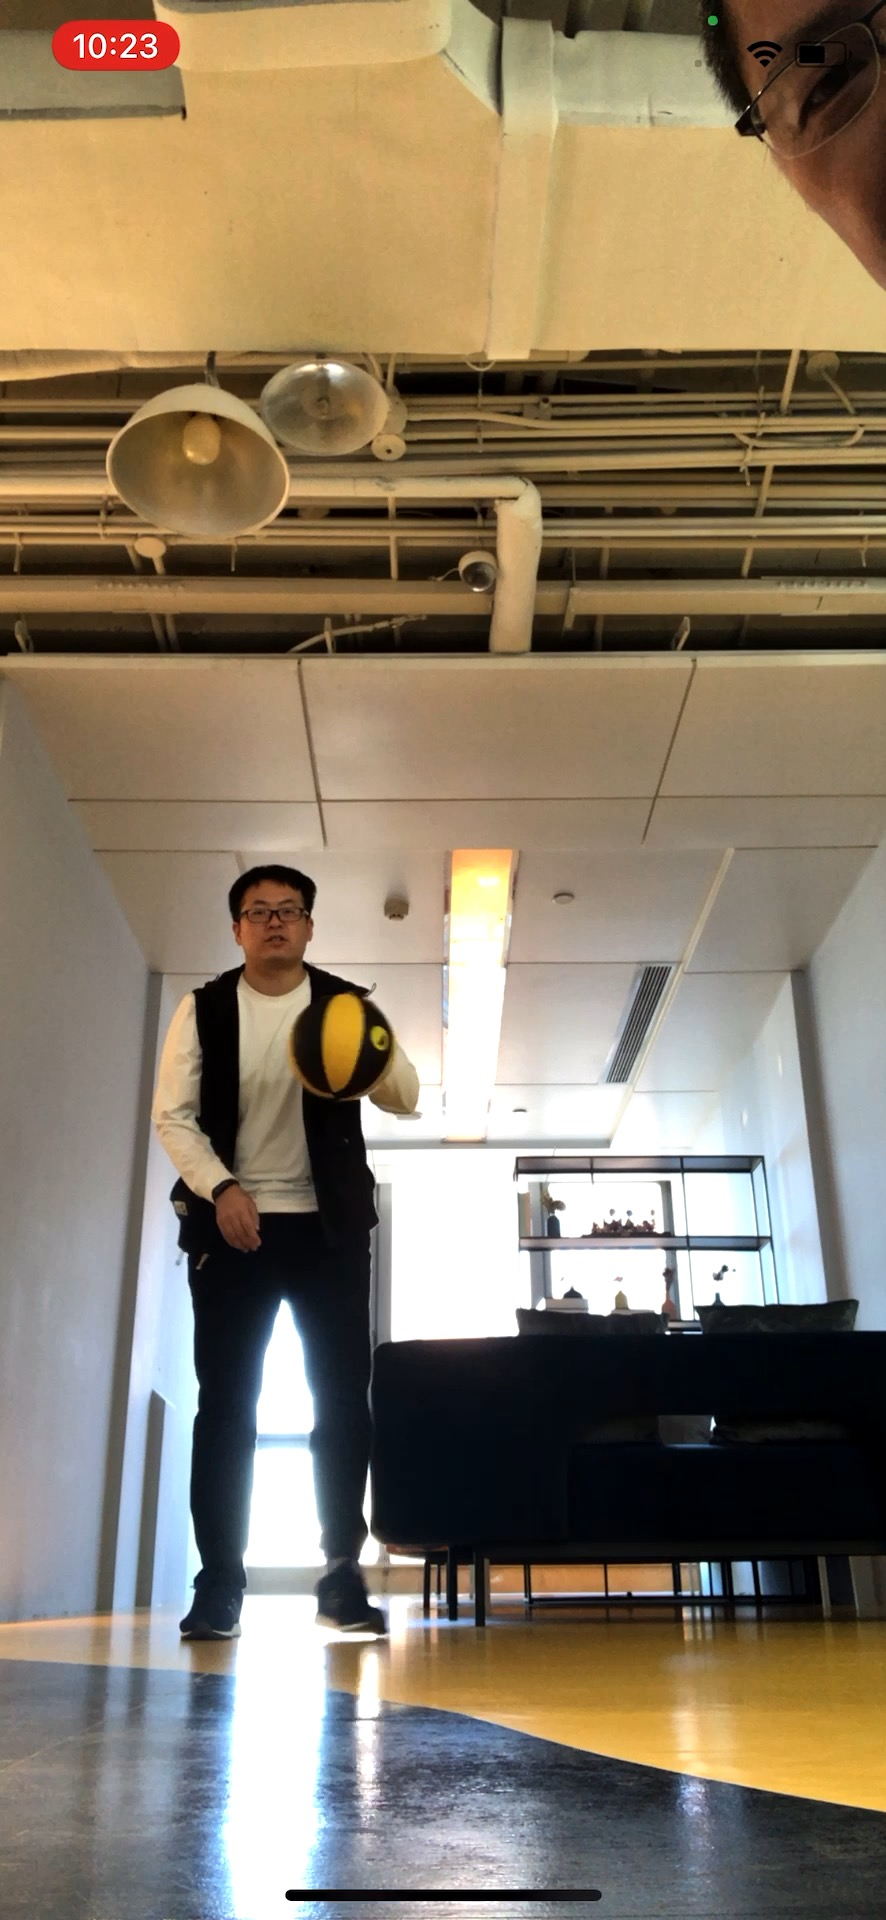ball: (292, 992, 398, 1106)
